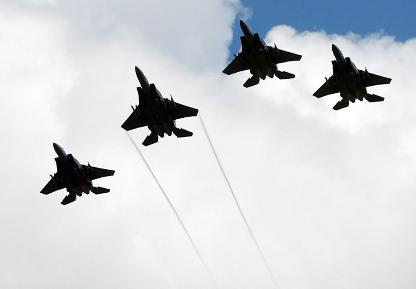F117: (120, 64, 198, 145), (221, 18, 302, 87), (312, 43, 392, 110), (39, 142, 115, 205)
